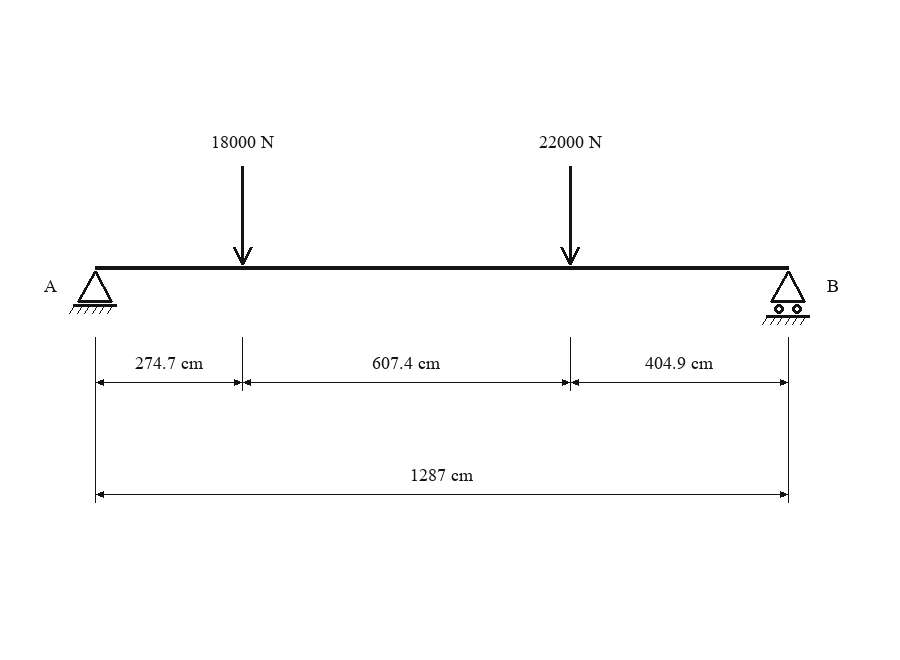pin_support: (69, 271, 117, 314)
point_load: (233, 166, 253, 265), (560, 166, 580, 265)
roller_support: (762, 271, 810, 325)
